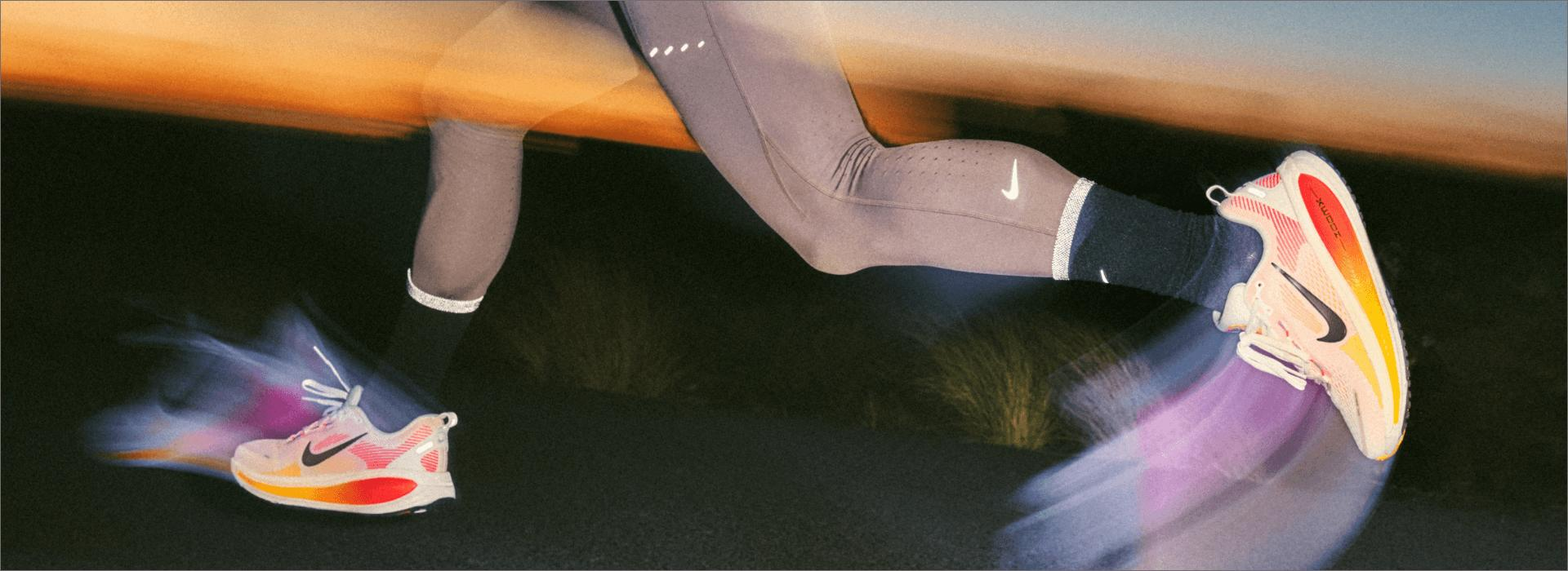nike logo: (1252, 249, 1365, 369), (279, 410, 385, 479)
sock logo: (974, 146, 1266, 310)
